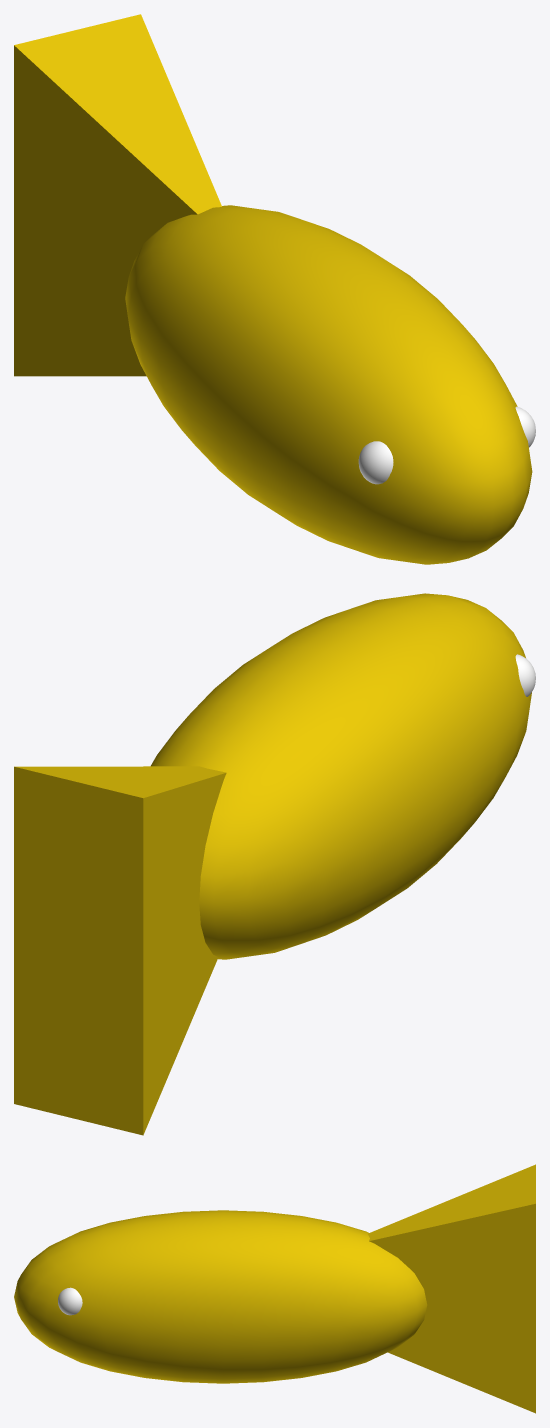
File: GoldFish.fbx
3 views of the same model, one above another, from view 1: azimuth 30°, elevation 25°; view 2: azimuth 150°, elevation 25°; view 3: azimuth 270°, elevation 25° (orthographic). The views are drawn at different scales.
Parts seen in each view (by area): view 1: Sphere; view 2: Sphere; view 3: Sphere.
Part boxes in pixels (x1,y1,x2,y2): Sphere: [14, 14, 535, 564]; Sphere: [14, 593, 535, 1135]; Sphere: [14, 1164, 535, 1413].
Bounding box in the file's own units: 140 × 200 × 451.
